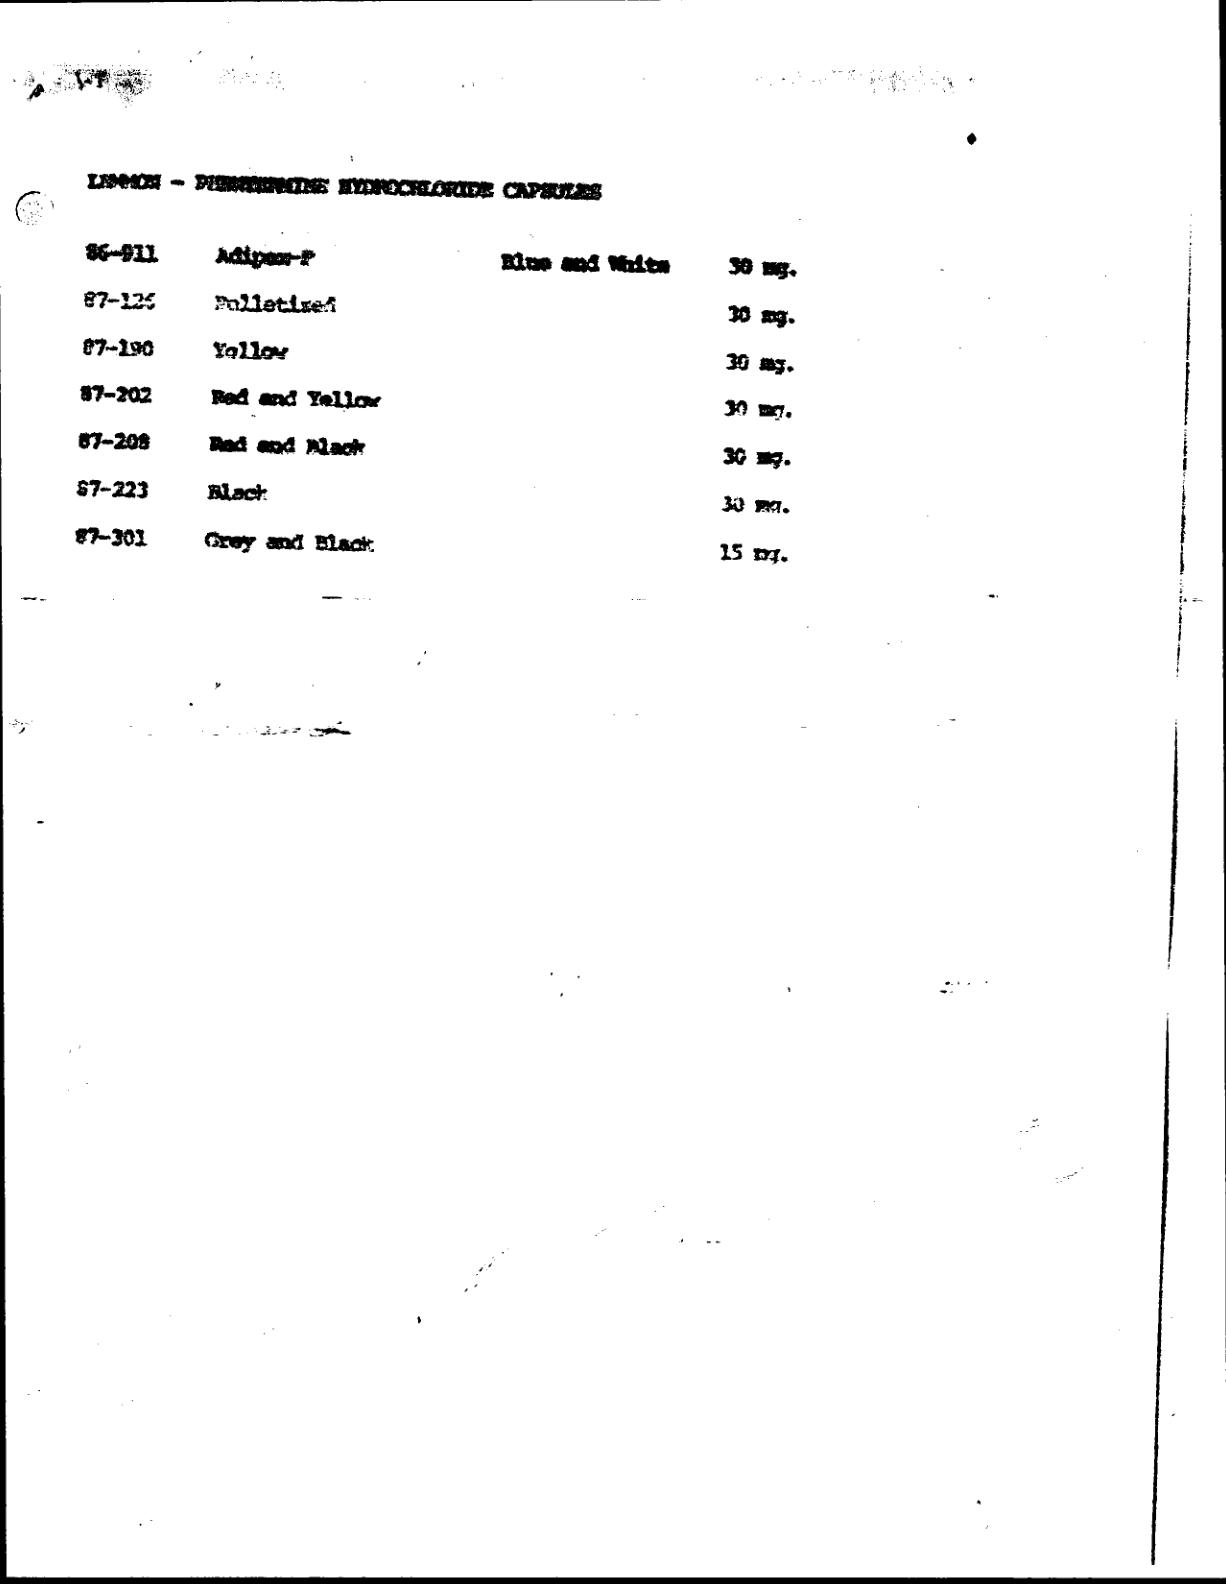nolines: (69, 237, 807, 570)
